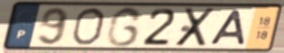2: (140, 7, 178, 48)
9: (37, 6, 71, 47)
A: (207, 9, 247, 47)
G: (104, 5, 145, 49)
O: (70, 7, 108, 47)
X: (172, 7, 219, 48)
